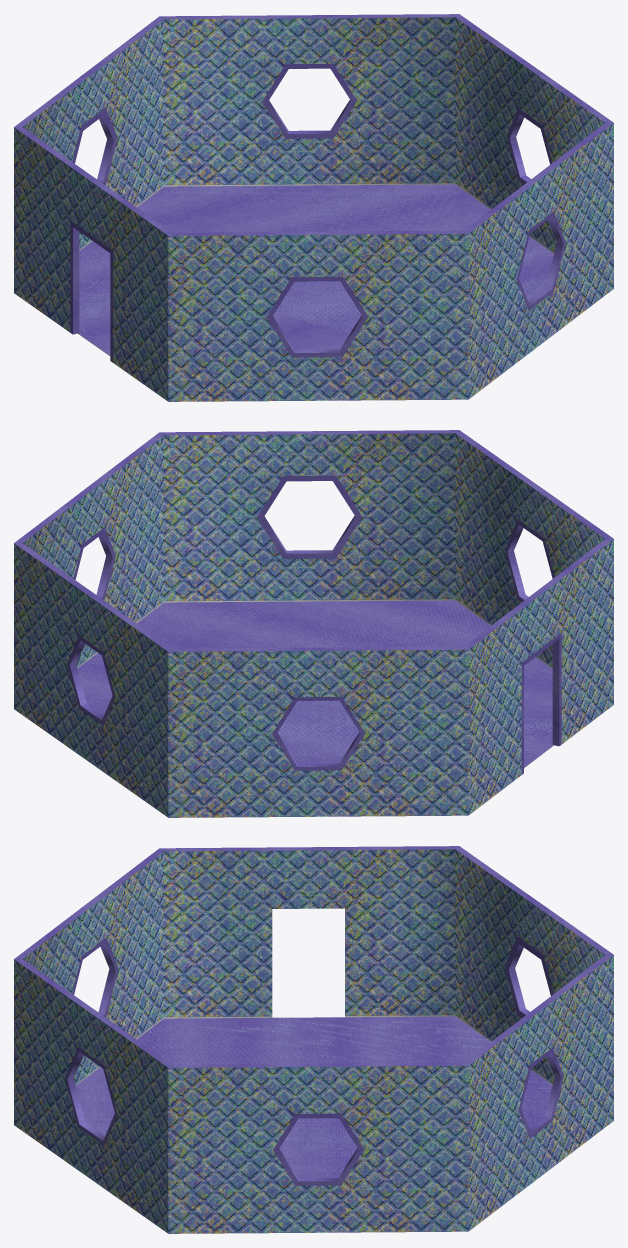
The model's file is space bace.dae.
3 views of the same model, one above another, from view 1: azimuth 30°, elevation 25°; view 2: azimuth 150°, elevation 25°; view 3: azimuth 270°, elevation 25° (orthographic).
Visible parts, largest first — view 1: SketchUp_001, SketchUp_014, SketchUp_015, SketchUp, SketchUp_013, SketchUp_004, SketchUp_019, SketchUp_002, SketchUp_003, SketchUp_009, SketchUp_020, SketchUp_018; view 2: SketchUp_001, SketchUp_014, SketchUp_015, SketchUp, SketchUp_017, SketchUp_013, SketchUp_005, SketchUp_002, SketchUp_006, SketchUp_011, SketchUp_016, SketchUp_008; view 3: SketchUp_001, SketchUp_014, SketchUp_015, SketchUp, SketchUp_007, SketchUp_003, SketchUp_020, SketchUp_006, SketchUp_009, SketchUp_011, SketchUp_002.
Boxes of the visible parts, left/top/right/bottom form: SketchUp_001: left=14, top=123, right=613, bottom=401; SketchUp_014: left=23, top=17, right=604, bottom=252; SketchUp_015: left=79, top=184, right=553, bottom=355; SketchUp: left=14, top=14, right=613, bottom=235; SketchUp_013: left=70, top=221, right=112, bottom=362; SketchUp_004: left=266, top=276, right=368, bottom=357; SketchUp_019: left=262, top=63, right=356, bottom=138; SketchUp_002: left=78, top=183, right=554, bottom=355; SketchUp_003: left=516, top=212, right=565, bottom=310; SketchUp_009: left=528, top=216, right=563, bottom=305; SketchUp_020: left=72, top=107, right=117, bottom=185; SketchUp_018: left=506, top=108, right=552, bottom=184; SketchUp_001: left=14, top=539, right=613, bottom=817; SketchUp_014: left=23, top=433, right=604, bottom=667; SketchUp_015: left=77, top=600, right=552, bottom=767; SketchUp: left=14, top=430, right=613, bottom=651; SketchUp_017: left=257, top=475, right=361, bottom=558; SketchUp_013: left=521, top=632, right=561, bottom=774; SketchUp_005: left=272, top=697, right=364, bottom=770; SketchUp_002: left=77, top=599, right=553, bottom=768; SketchUp_006: left=67, top=635, right=115, bottom=725; SketchUp_011: left=70, top=640, right=103, bottom=720; SketchUp_016: left=504, top=520, right=554, bottom=602; SketchUp_008: left=507, top=525, right=528, bottom=599; SketchUp_001: left=14, top=955, right=613, bottom=1233; SketchUp_014: left=23, top=849, right=604, bottom=1084; SketchUp_015: left=76, top=1016, right=552, bottom=1178; SketchUp: left=14, top=846, right=613, bottom=1067; SketchUp_007: left=273, top=1113, right=363, bottom=1185; SketchUp_003: left=65, top=1047, right=117, bottom=1145; SketchUp_020: left=504, top=936, right=553, bottom=1018; SketchUp_006: left=518, top=1048, right=563, bottom=1138; SketchUp_009: left=67, top=1052, right=104, bottom=1140; SketchUp_011: left=529, top=1053, right=561, bottom=1133; SketchUp_002: left=76, top=1015, right=552, bottom=1085.
Bounding box in the file's own units: 8.31 × 9.5 × 2.93.
Materials: 4 (3 with a texture image).
